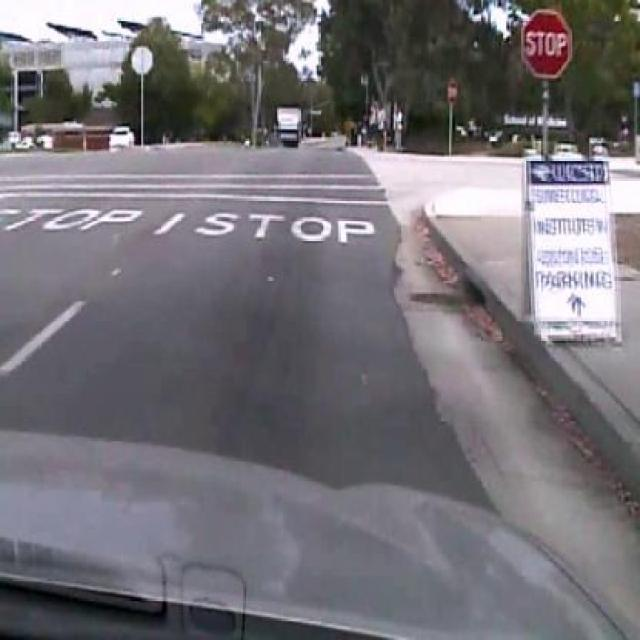stop: (518, 8, 574, 83)
